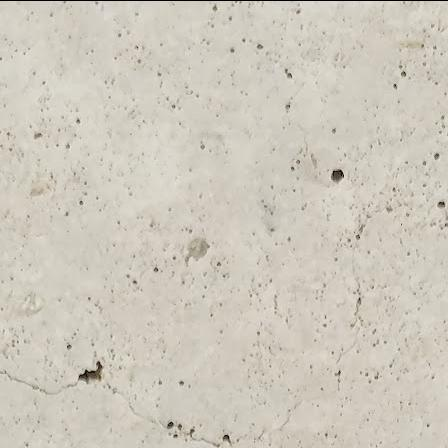crack: (0, 329, 254, 448)
hole: (327, 166, 346, 185)
